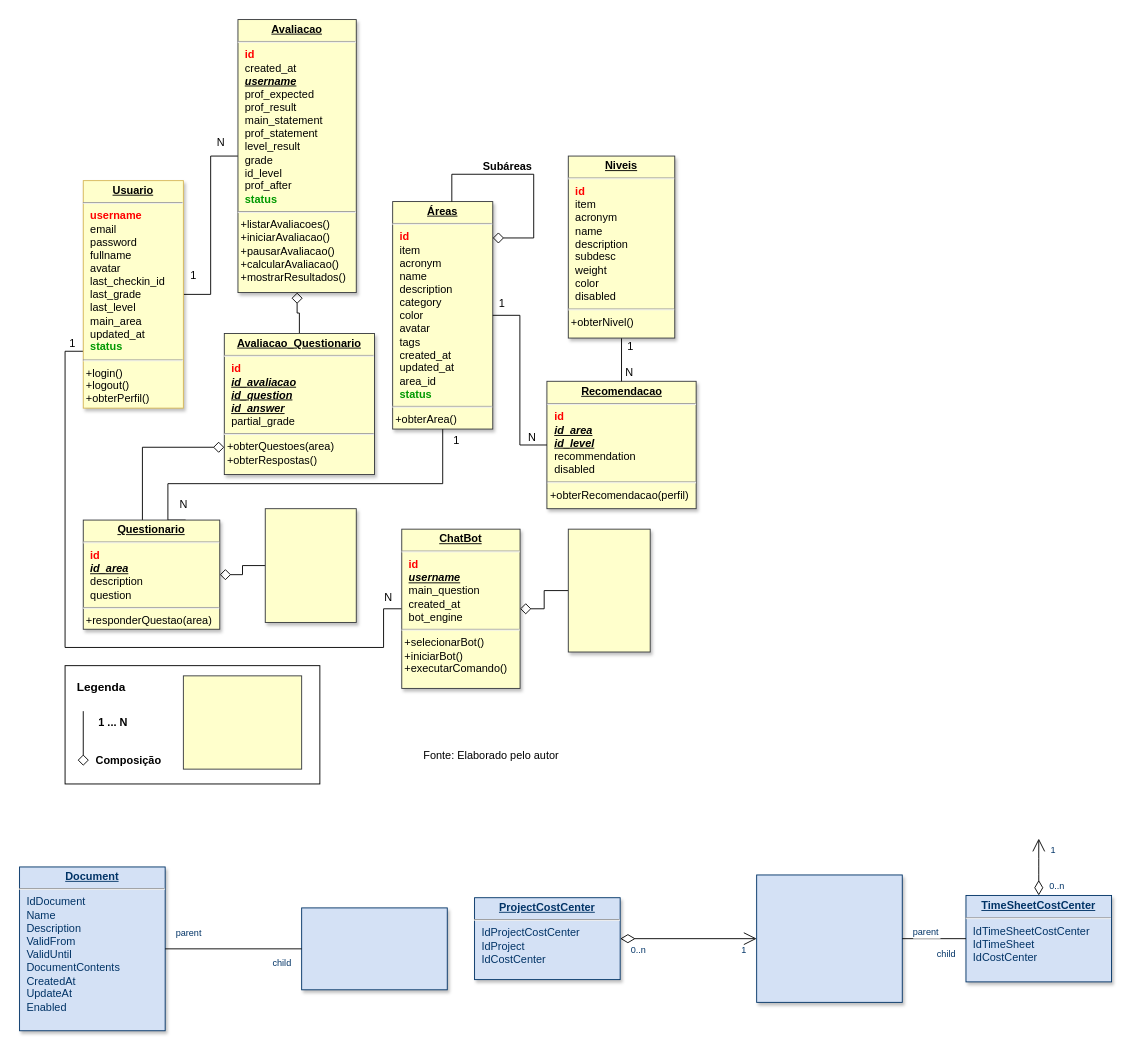
This 1133x1054 diagram has some shape labels left out. The centre of each missing label's shape, as x and y in pixels:
Classe id Chave Primária id Chave Estrangeira status +metodos(): the point at 242,722
CostCenter IdCostCenter Name Description CreatedAt UpdatedAt Enabled: the point at 830,939
Dialogo id id_chat question answer created_at +conversar(): the point at 610,591
ProjectDocument IdProjectDocument IdProject IdDocument: the point at 375,949
Resposta id id_question item answer weight: the point at 311,566
